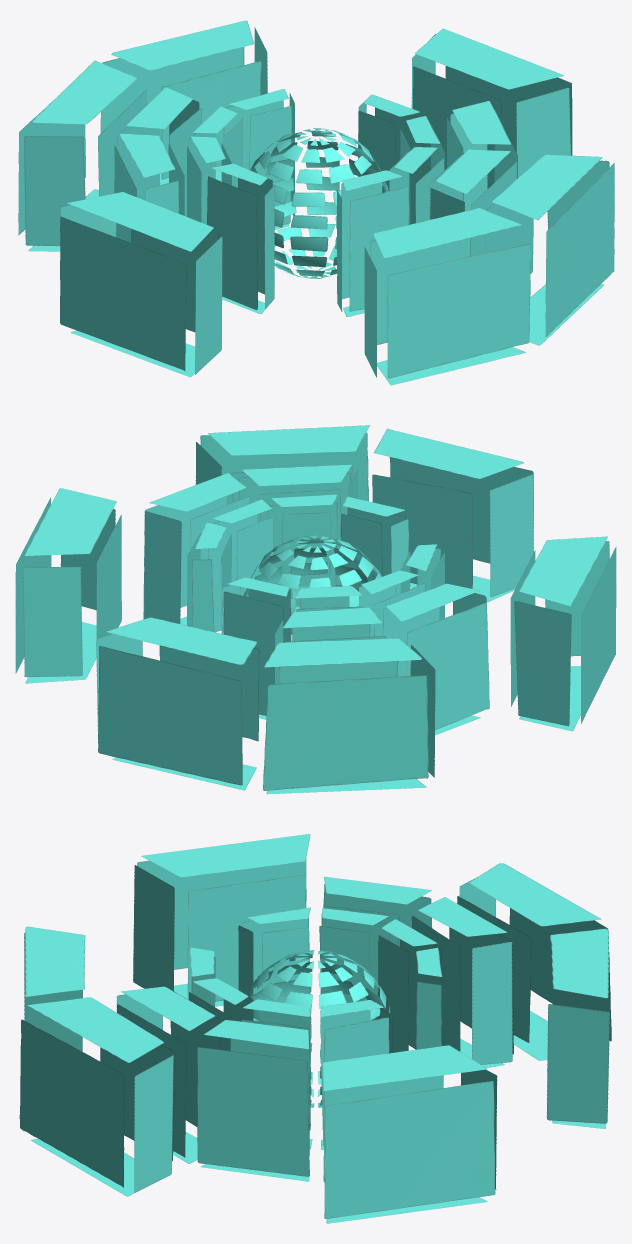
Rendered from End.fbx.
3 renders of one model, top to bottom at view 1: azimuth 30°, elevation 25°; view 2: azimuth 150°, elevation 25°; view 3: azimuth 270°, elevation 25°, orthographic. The views are drawn at different scales.
Parts seen in each view (by area): view 1: group6; view 2: group6; view 3: group6.
Boxes of the visible parts, box(x1,y1,x2,y2) form: group6: box(18, 20, 614, 385); group6: box(15, 425, 616, 794); group6: box(19, 834, 611, 1223).
Bounding box in the file's own units: 8.65 × 2.18 × 8.23.
